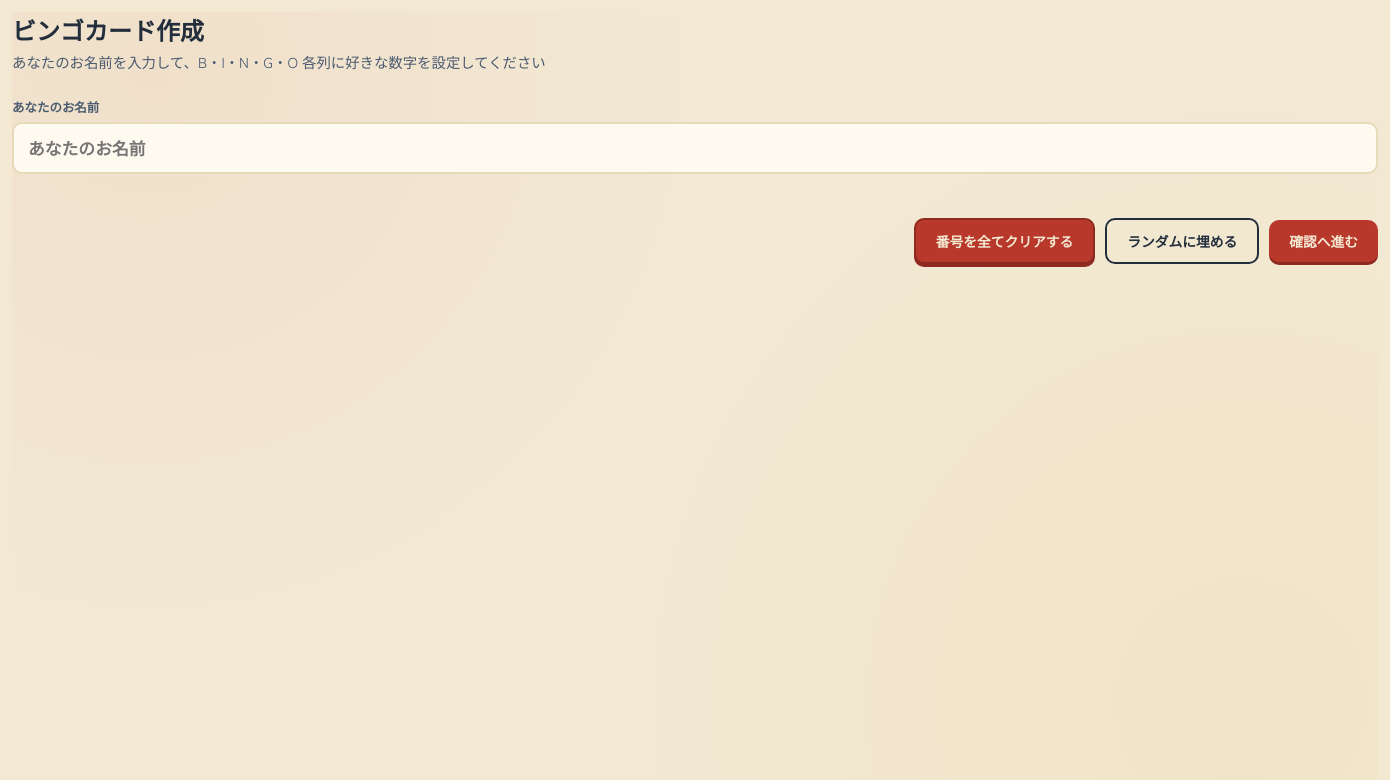
it: card/create.vue › 未入力のまま確認へ進むとエラーを表示し遷移しない
The width and height of the screenshot is (1390, 780).
Click the button "確認へ進む" at (1324, 241), box [1269, 220, 1378, 262]
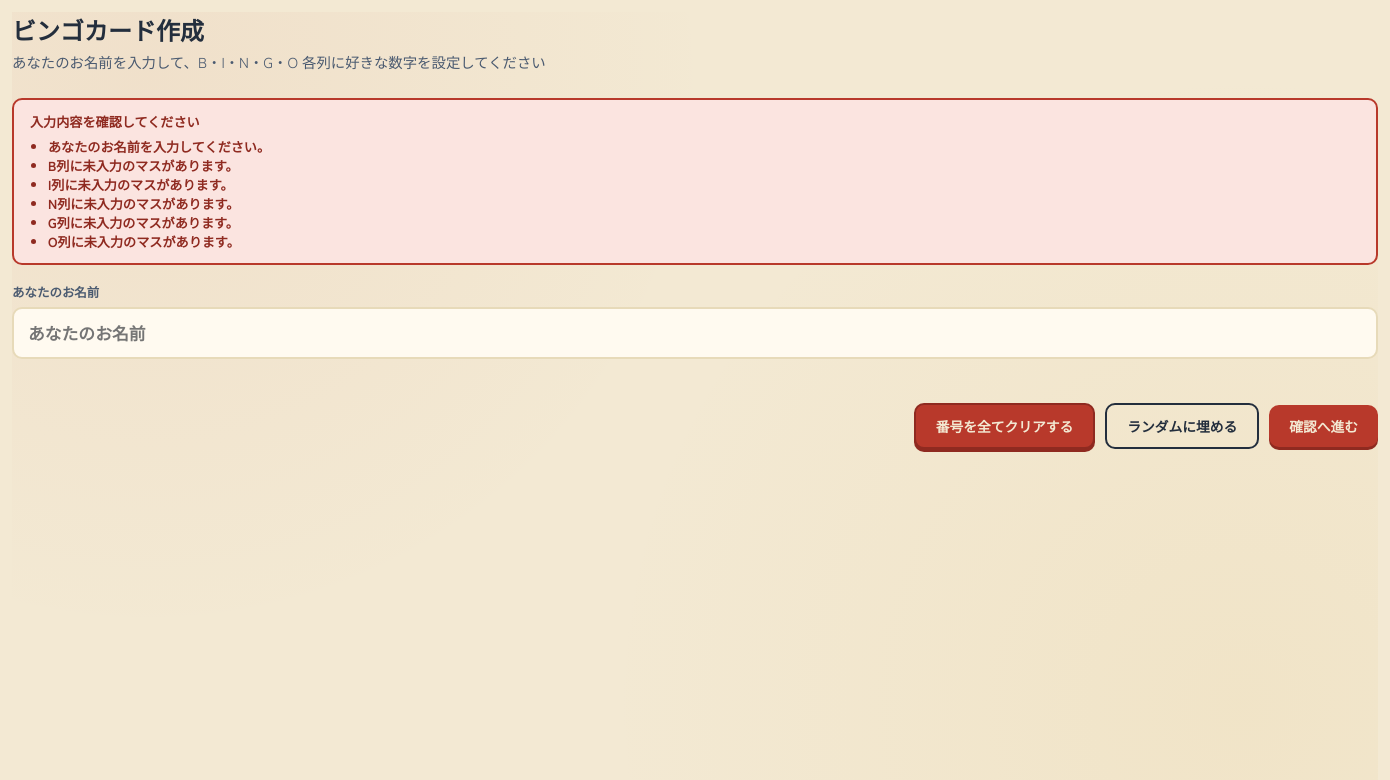
Now the element with class "errors" is shown, box [12, 98, 1378, 265]
